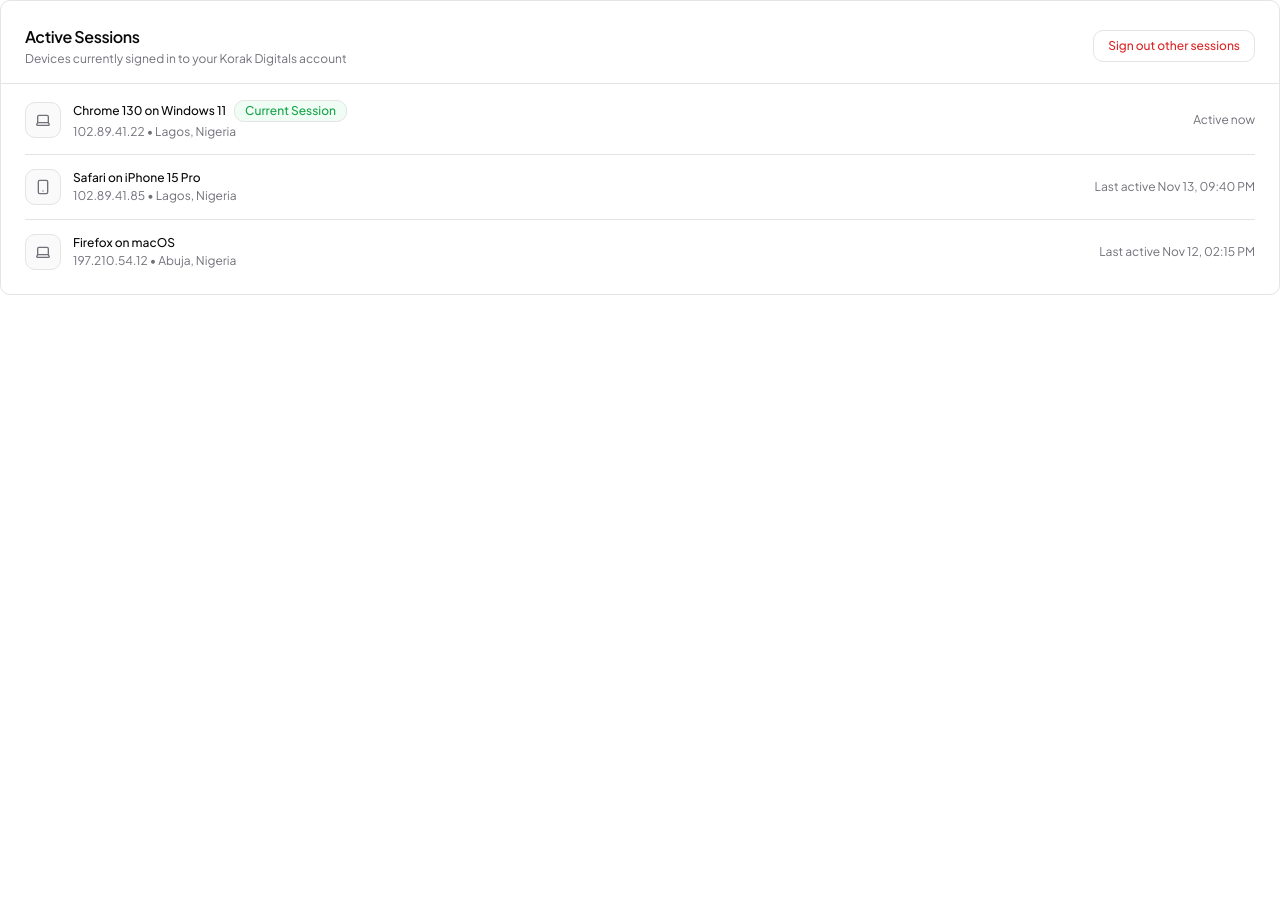
it: ActiveSessionsCard (F13.3) › opens destructive confirm dialog and revokes other sessions on confirmation
Click the button with test id "revoke-others-button". click: point(1174, 46)
box: 1093,30 -> 1255,62
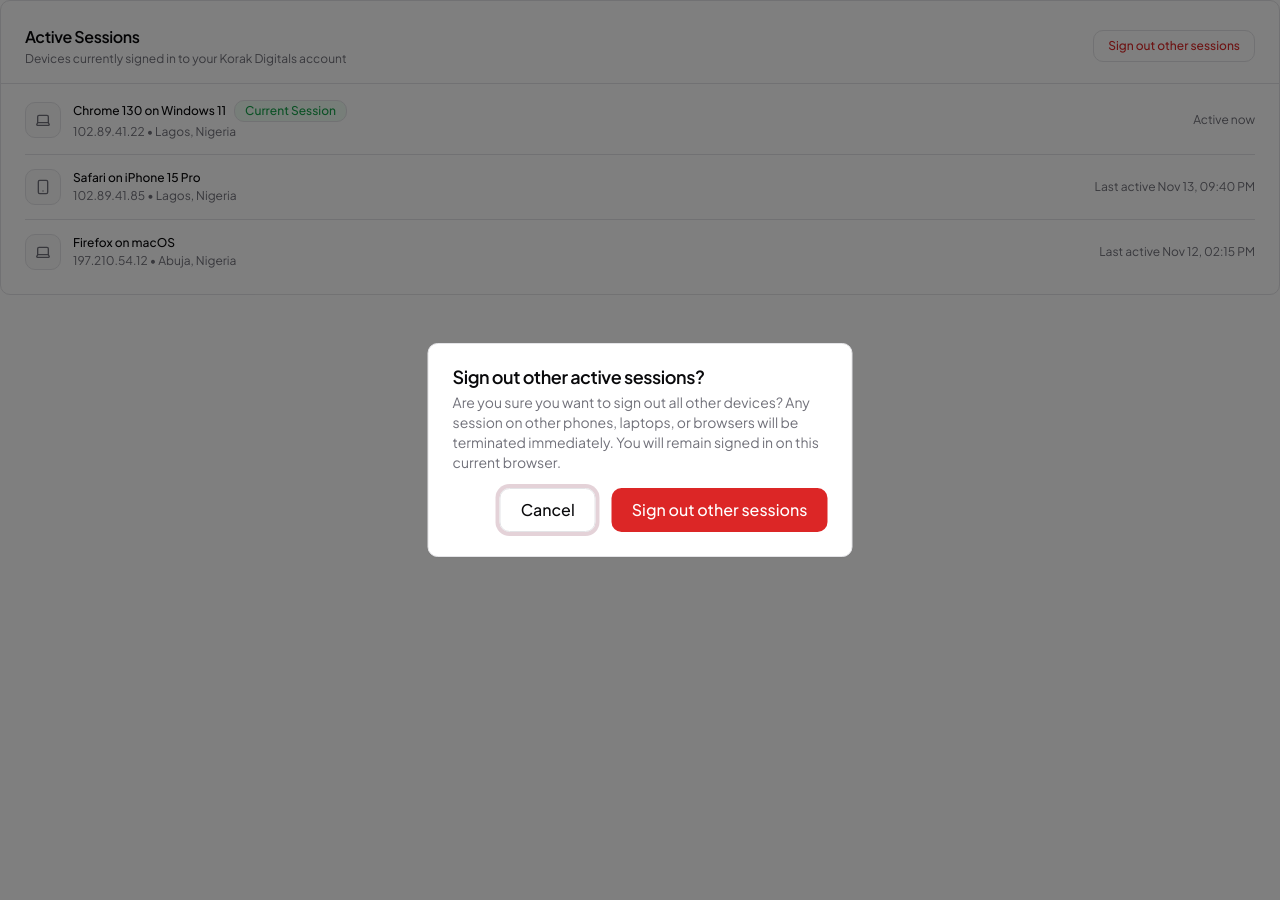
Now the heading "Sign out other active sessions?" is shown, box 452,365 -> 704,388
Click the button "Sign out other sessions". click: point(720, 510)
box: 612,488 -> 828,532
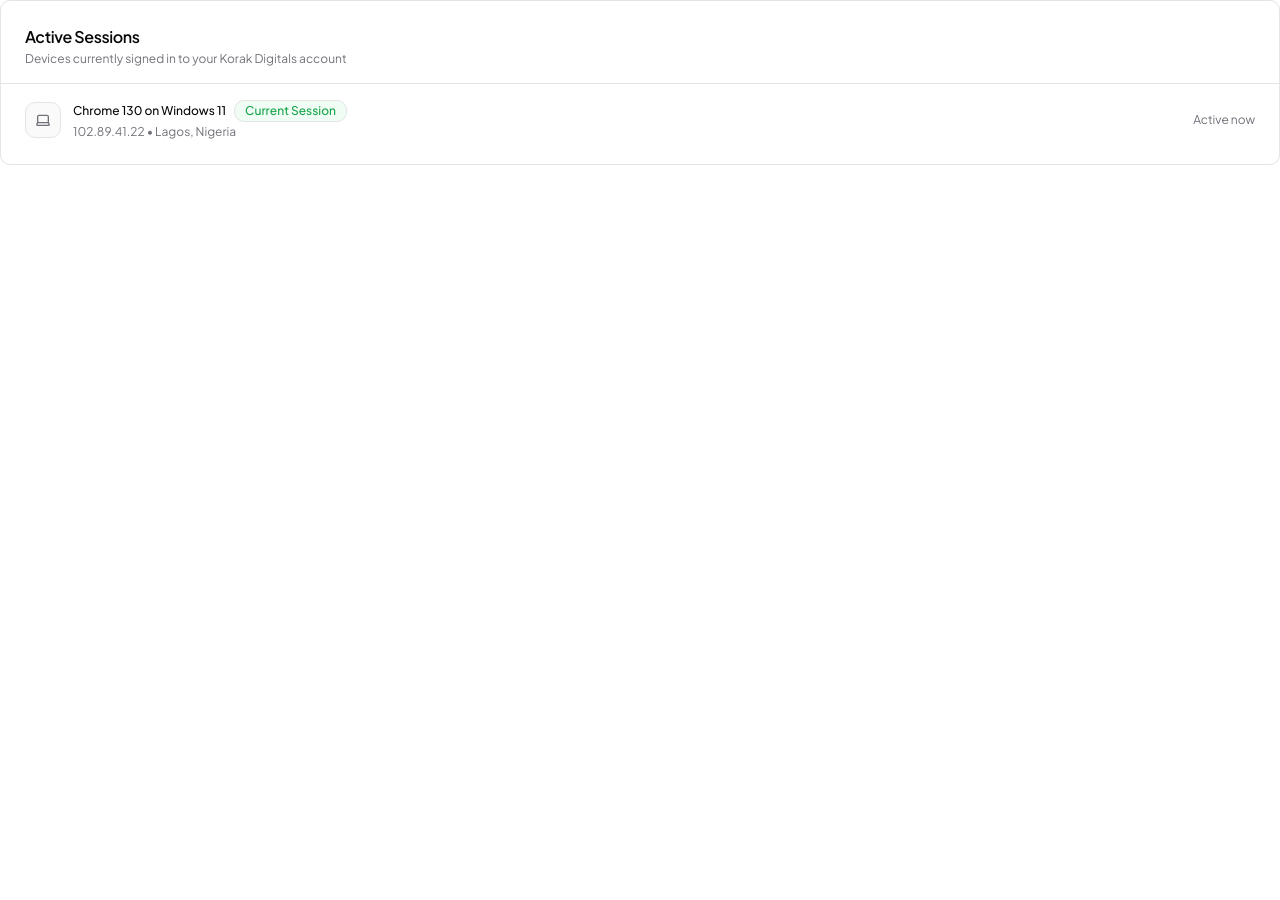
Expected: the text "Chrome 130 on Windows 11" is shown, 73,103 -> 226,119
Now the text "Safari on iPhone 15 Pro" is gone
